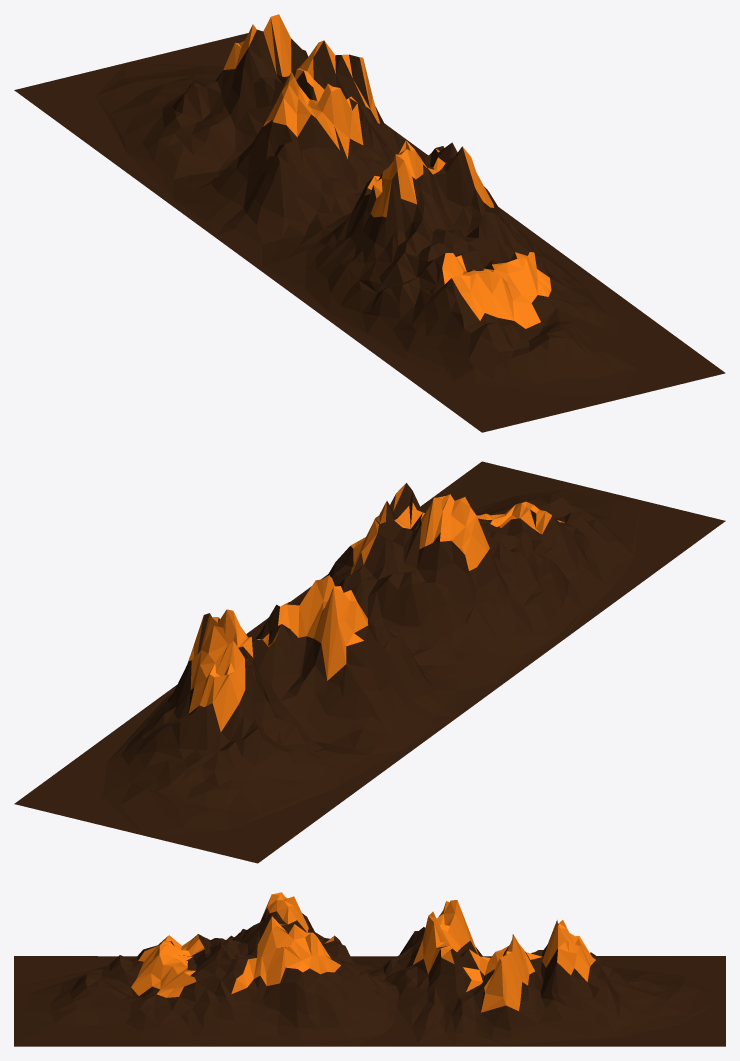
The model's file is mountain03.fbx.
The picture shows the model from 3 angles, top to bottom: view 1: azimuth 30°, elevation 25°; view 2: azimuth 150°, elevation 25°; view 3: azimuth 270°, elevation 25°; orthographic projection. The views are drawn at different scales.
Visible parts, largest first — view 1: Landscape; view 2: Landscape; view 3: Landscape.
Boxes of the visible parts, <box> form: Landscape: <box>14,14,725,432</box>; Landscape: <box>14,461,725,863</box>; Landscape: <box>14,892,725,1046</box>.
Bounding box in the file's own units: 70.75 × 36.47 × 235.
